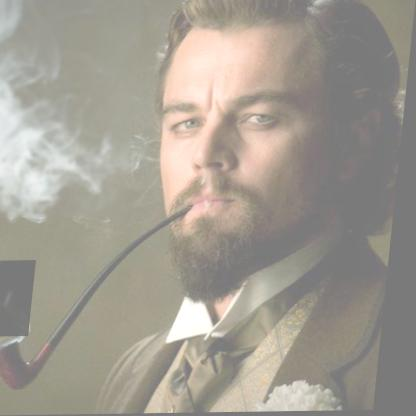smoke: (0, 0, 145, 218), (0, 260, 42, 337)
